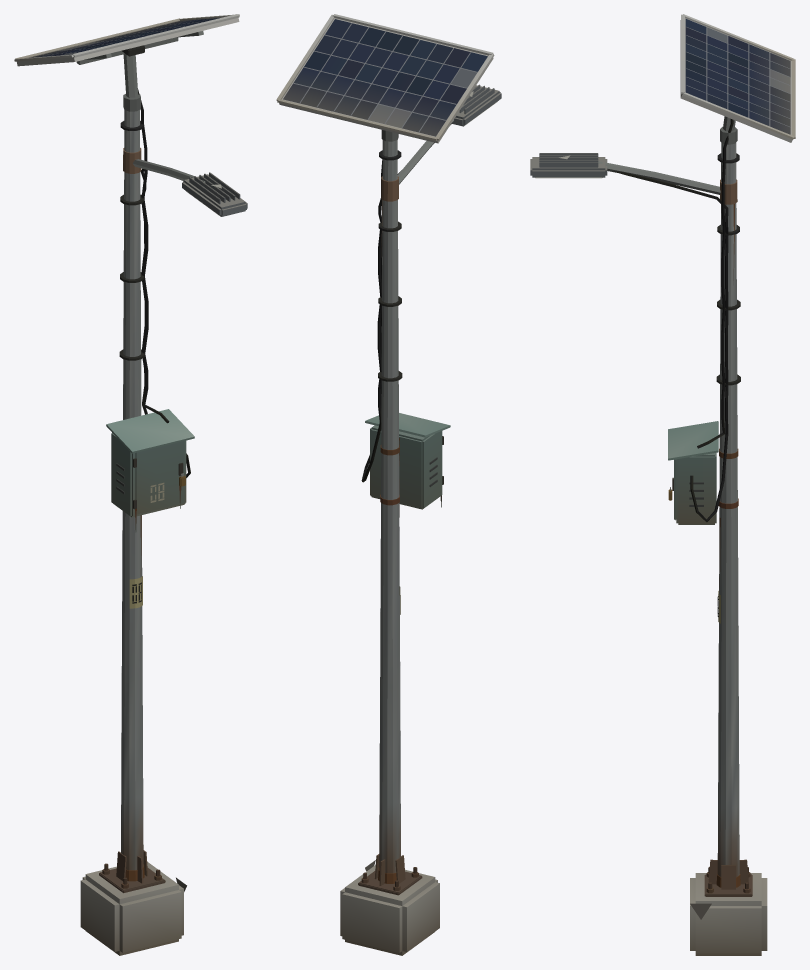
Rendered from lamp_solar_v2.glb.
The picture shows the model from 3 angles, left to right: view 1: azimuth 30°, elevation 25°; view 2: azimuth 150°, elevation 25°; view 3: azimuth 270°, elevation 25°; orthographic projection. The views are drawn at different scales.
Parts seen in each view (by area): view 1: hb_tin, hb_main; view 2: hb_main, hb_tin; view 3: hb_tin, hb_main.
Part boxes in pixels (bbox=[...]): hb_tin: bbox=[76, 31, 247, 893]; hb_main: bbox=[14, 14, 239, 955]; hb_main: bbox=[276, 14, 494, 955]; hb_tin: bbox=[358, 84, 501, 895]; hb_tin: bbox=[530, 116, 752, 896]; hb_main: bbox=[558, 14, 795, 955].
Bounding box in the file's own units: 1.02 × 5.34 × 1.45.
